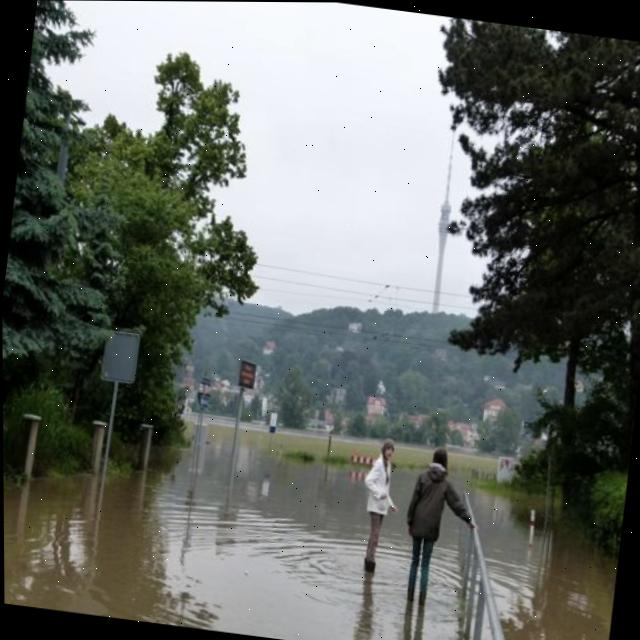civilian: (385, 435, 491, 621), (331, 417, 413, 587)
